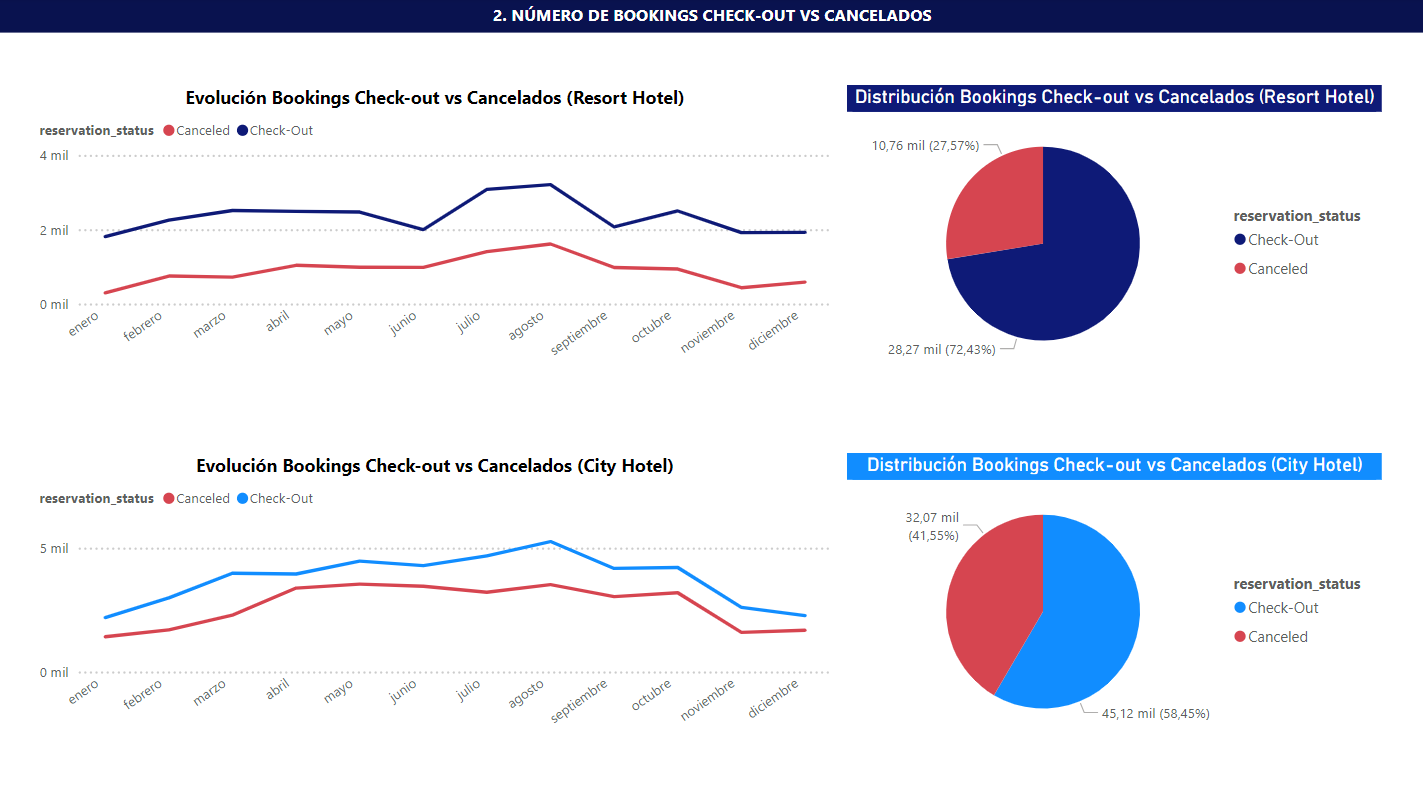

The dashboard page shown, as its layout file describes it:
{"tool":"powerbi","page":{"name":"2. Check-out vs Cancelados","canvas":[1280,720],"ordinal":1},"visuals":[{"type":"lineChart","title":"Evolución Bookings Check-out vs Cancelados (Resort Hotel)","fields":{"Category":["hotel_bookings_v2.dia.Variación.Jerarquía de fechas.Mes"],"Y":["CountNonNull(hotel_bookings_v2.reservation_status)"],"Series":["hotel_bookings_v2.reservation_status"]},"box":[32.2,77.9,718.4,265.1],"z":0},{"type":"lineChart","title":"Evolución Bookings Check-out vs Cancelados (City Hotel)","fields":{"Category":["hotel_bookings_v2.dia.Variación.Jerarquía de fechas.Mes"],"Y":["CountNonNull(hotel_bookings_v2.reservation_status)"],"Series":["hotel_bookings_v2.reservation_status"]},"box":[32.2,407.6,718.4,265.1],"z":1000},{"type":"textbox","box":[978.1,0,301.9,51.1],"z":2000},{"type":"pieChart","title":"Distribución Bookings Check-out vs Cancelados (Resort Hotel)","fields":{"Y":["CountNonNull(hotel_bookings_v2.reservation_status)"],"Category":["hotel_bookings_v2.reservation_status"]},"box":[760.5,77.9,479.2,265.1],"z":3000},{"type":"pieChart","title":"Distribución Bookings Check-out vs Cancelados (City Hotel)","fields":{"Y":["CountNonNull(hotel_bookings_v2.reservation_status)"],"Category":["hotel_bookings_v2.reservation_status"]},"box":[760.5,407.6,479.2,265.1],"z":4000},{"type":"textbox","box":[0,0,1279.7,31.3],"z":4001}]}

Visuals, with their boxes in screenshot pixels (x1, y1, x2, y2), scaled from the page's 1280x720 canvas onto the 1423x801 screenshot:
"Evolución Bookings Check-out vs Cancelados (Resort Hotel)" lineChart: 36,87,834,382
"Evolución Bookings Check-out vs Cancelados (City Hotel)" lineChart: 36,453,834,748
textbox: 1087,0,1422,57
"Distribución Bookings Check-out vs Cancelados (Resort Hotel)" pieChart: 845,87,1378,382
"Distribución Bookings Check-out vs Cancelados (City Hotel)" pieChart: 845,453,1378,748
textbox: 0,0,1422,35
